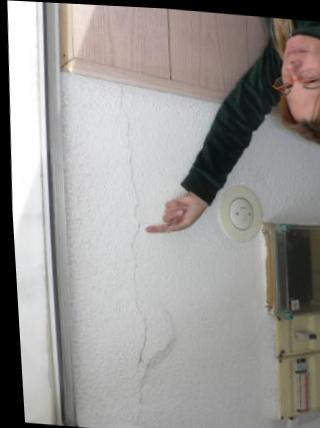crack: (129, 171, 142, 368), (120, 83, 133, 171)
